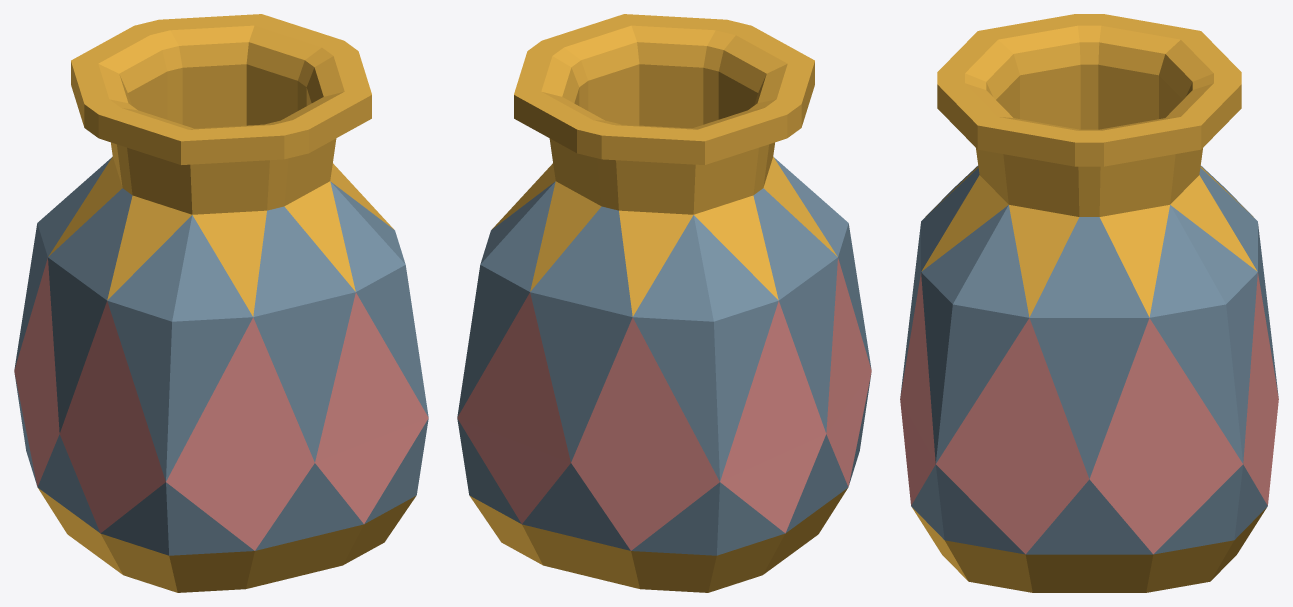
The model's file is Pot.glb.
The picture shows the model from 3 angles, left to right: view 1: azimuth 30°, elevation 25°; view 2: azimuth 150°, elevation 25°; view 3: azimuth 270°, elevation 25°; orthographic projection.
Visible parts, largest first — view 1: Cube; view 2: Cube; view 3: Cube.
Part boxes in pixels (left/top/right/bottom): Cube: left=14, top=14, right=428, bottom=592; Cube: left=457, top=14, right=871, bottom=592; Cube: left=900, top=14, right=1278, bottom=592.
Bounding box in the file's own units: 2.25 × 3.1 × 2.25.
